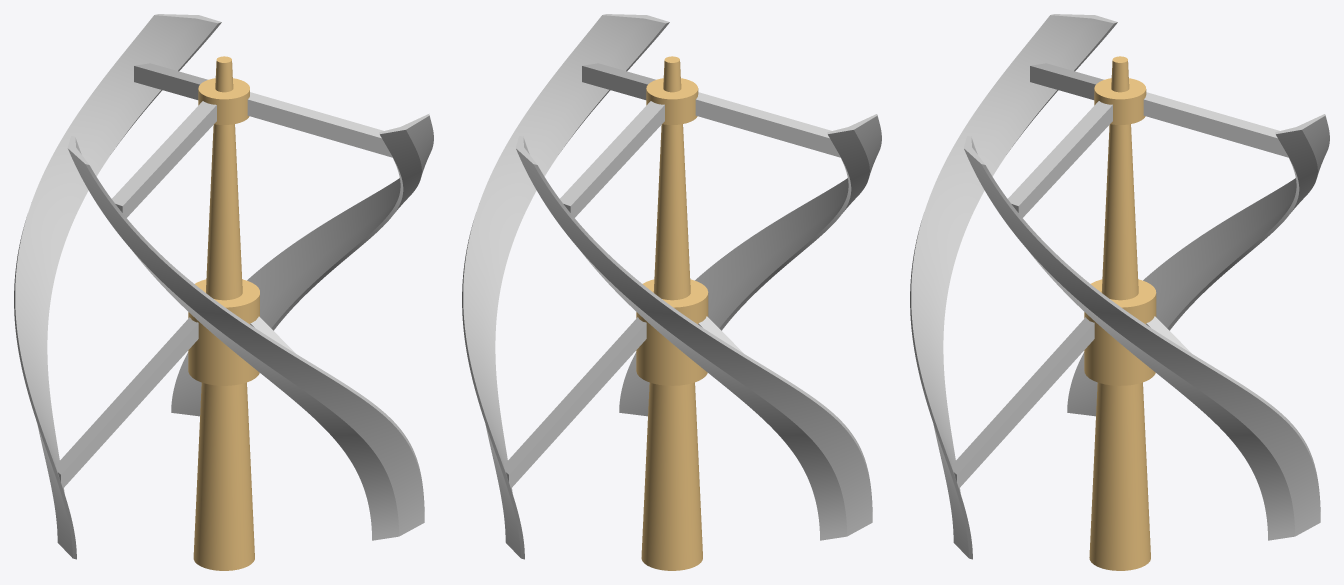
File: Turbine.fbx
3 views of the same model, side by side, from view 1: azimuth 30°, elevation 25°; view 2: azimuth 150°, elevation 25°; view 3: azimuth 270°, elevation 25° (orthographic).
Visible parts, largest first — view 1: Object_6, Object_8; view 2: Object_6, Object_8; view 3: Object_6, Object_8.
Boxes of the visible parts, x1,y1,x2,y2 form: Object_6: (14, 14, 433, 559); Object_8: (188, 56, 259, 570); Object_6: (462, 14, 881, 559); Object_8: (636, 56, 708, 570); Object_6: (910, 14, 1329, 559); Object_8: (1084, 56, 1156, 570).
Size of the model in its own units: 204 by 267 by 204.
